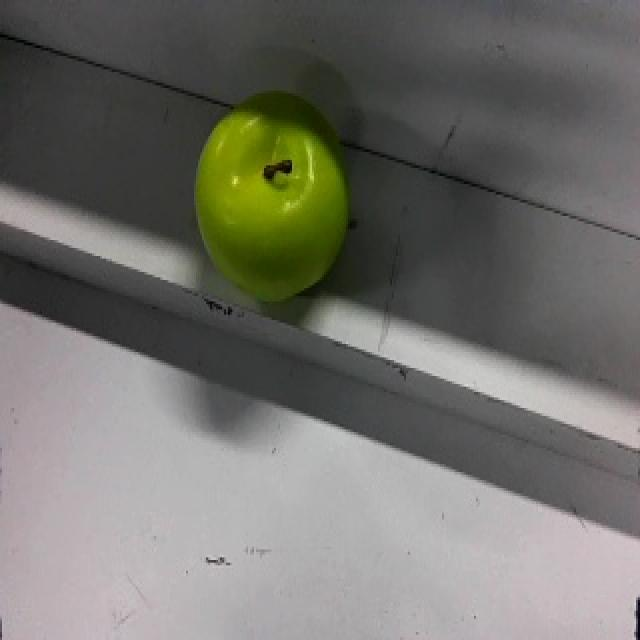apple: (193, 87, 355, 326)
